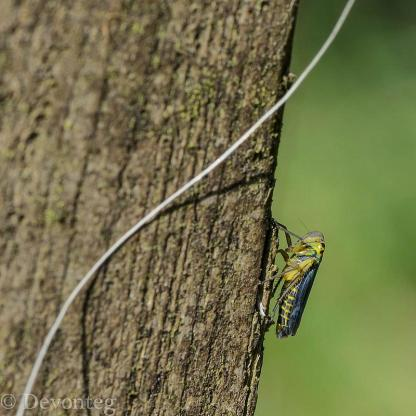Green-Leafhopper: (264, 216, 331, 344)
